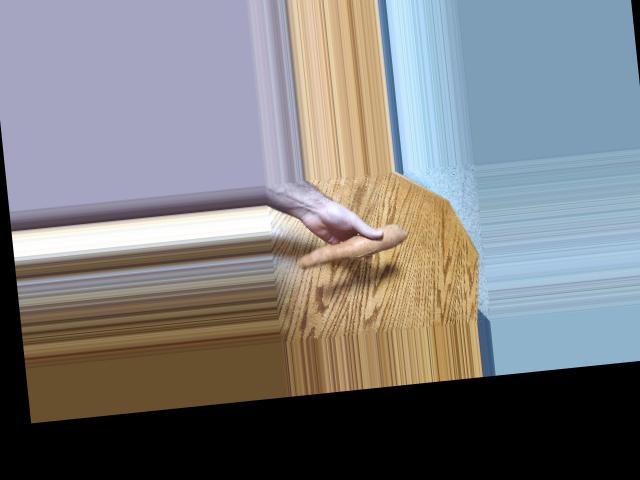sweet_potato: (296, 232, 407, 264)
